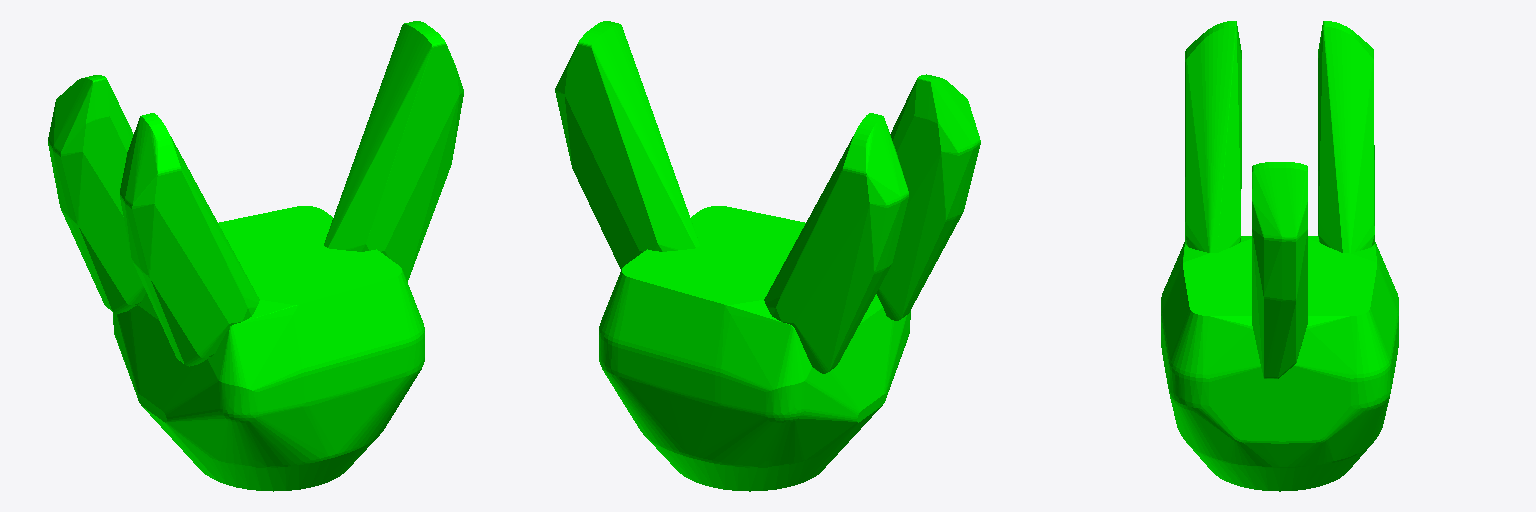
robot.urdf — s-model_mesh:
<?xml version="1.0" ?>
<!-- =================================================================================== -->
<!-- |    This document was autogenerated by xacro from s-model_mesh.xacro             | -->
<!-- |    EDITING THIS FILE BY HAND IS NOT RECOMMENDED                                 | -->
<!-- =================================================================================== -->
<!-- NOTE: THE URDF GENERATED BY THIS FILE DOES NO WORK PROPERLY BECAUSE -->
<!-- IT INCLUDES ONLY FIXED JOINTS (WHICH ARE NOT PUBLISHED BY THE JOINT -->
<!-- STATE PUBLISHER.                                                    -->
<robot name="s-model_mesh" xmlns:xacro="http://ros.org/wiki/xacro">
  <link name="palm">
    <visual>
      <geometry>
        <mesh filename="package://robotiq_s_model_visualization/meshes/s-model/visual/GRIPPER_OPEN_PALM.dae"/>
      </geometry>
      <material name="green">
        <color rgba="0 1 0 1"/>
      </material>
    </visual>
    <collision>
      <geometry>
        <mesh filename="package://robotiq_s_model_visualization/meshes/s-model/collision/GRIPPER_OPEN_PALM.dae"/>
      </geometry>
      <material name="yellow">
        <color rgba="0 1 1 1"/>
      </material>
    </collision>
  </link>
  <link name="finger_1">
    <visual>
      <geometry>
        <mesh filename="package://robotiq_s_model_visualization/meshes/s-model/visual/GRIPPER_OPEN_FINGER_1.dae"/>
      </geometry>
      <material name="green"/>
    </visual>
    <collision>
      <geometry>
        <mesh filename="package://robotiq_s_model_visualization/meshes/s-model/collision/GRIPPER_OPEN_FINGER_1.dae"/>
      </geometry>
      <material name="yellow"/>
    </collision>
  </link>
  <link name="finger_2">
    <visual>
      <geometry>
        <mesh filename="package://robotiq_s_model_visualization/meshes/s-model/visual/GRIPPER_OPEN_FINGER_2.dae"/>
      </geometry>
      <material name="green"/>
    </visual>
    <collision>
      <geometry>
        <mesh filename="package://robotiq_s_model_visualization/meshes/s-model/collision/GRIPPER_OPEN_FINGER_2.dae"/>
      </geometry>
      <material name="yellow"/>
    </collision>
  </link>
  <link name="finger_3">
    <visual>
      <geometry>
        <mesh filename="package://robotiq_s_model_visualization/meshes/s-model/visual/GRIPPER_OPEN_FINGER_3.dae"/>
      </geometry>
      <material name="green"/>
    </visual>
    <collision>
      <geometry>
        <mesh filename="package://robotiq_s_model_visualization/meshes/s-model/collision/GRIPPER_OPEN_FINGER_3.dae"/>
      </geometry>
      <material name="yellow"/>
    </collision>
  </link>
  <joint name="joint_1" type="fixed">
    <parent link="palm"/>
    <child link="finger_1"/>
    <origin rpy="0 0 0" xyz="0 0 0"/>
  </joint>
  <joint name="joint_2" type="fixed">
    <parent link="palm"/>
    <child link="finger_2"/>
    <origin rpy="0 0 0" xyz="0 0 0"/>
  </joint>
  <joint name="joint_3" type="fixed">
    <parent link="palm"/>
    <child link="finger_3"/>
    <origin rpy="0 0 0" xyz="0 0 0"/>
  </joint>
</robot>

--- Facts derived from the render (not from the file) ---
Views: 3 orthographic renders of the robot side by side, from view 1: azimuth 30°, elevation 25°; view 2: azimuth 150°, elevation 25°; view 3: azimuth 270°, elevation 25°.
Robot: s-model_mesh — 4 links, 3 joints (3 fixed); root link palm; default pose: all joints at 0.
Visible links, largest first — view 1: palm, finger_2, finger_3, finger_1; view 2: palm, finger_2, finger_1, finger_3; view 3: palm, finger_3, finger_1, finger_2.
Link boxes in pixels (x1,y1,x2,y2): palm: (113, 206, 424, 491); finger_2: (324, 21, 463, 281); finger_3: (120, 113, 259, 366); finger_1: (48, 75, 146, 313); palm: (599, 206, 910, 491); finger_2: (555, 21, 699, 269); finger_1: (764, 113, 908, 373); finger_3: (876, 74, 980, 320); palm: (1161, 236, 1398, 491); finger_3: (1185, 21, 1241, 252); finger_1: (1318, 21, 1374, 252); finger_2: (1252, 162, 1307, 378).
Size in the robot's own frame: 0.2181 by 0.1302 by 0.2228 metres.
Meshes: 4 distinct files referenced, 4 mesh visuals loaded (4 Collada DAE).